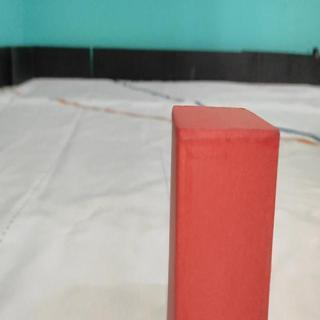redbox: (167, 103, 281, 320)
